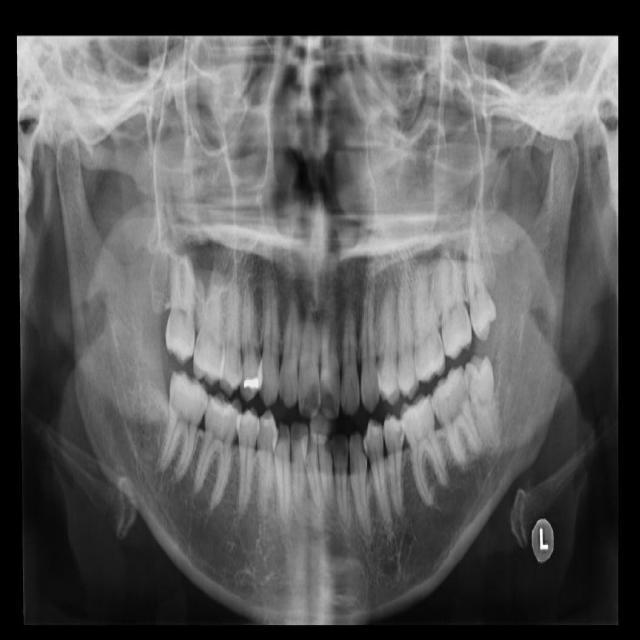3M ESPE Implant: (166, 239, 198, 365)
52: (239, 357, 263, 400)
73: (622, 614, 631, 624)
BioHorizons Implant: (438, 224, 472, 359)
BioLife Implant: (460, 227, 500, 343)
Biomet 3i Implant: (462, 352, 507, 449)
Blue Sky Bio Implant: (424, 362, 488, 475)
Caries: (192, 273, 226, 385)
Implant: (156, 370, 212, 484)
